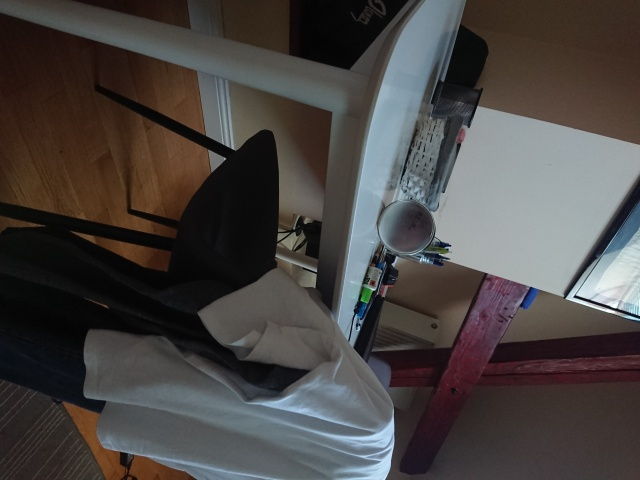Nescafe Classic 225g: (374, 197, 438, 259)
